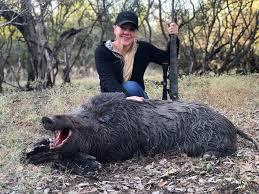person: (92, 8, 181, 101)
wildboar: (40, 92, 259, 162)
